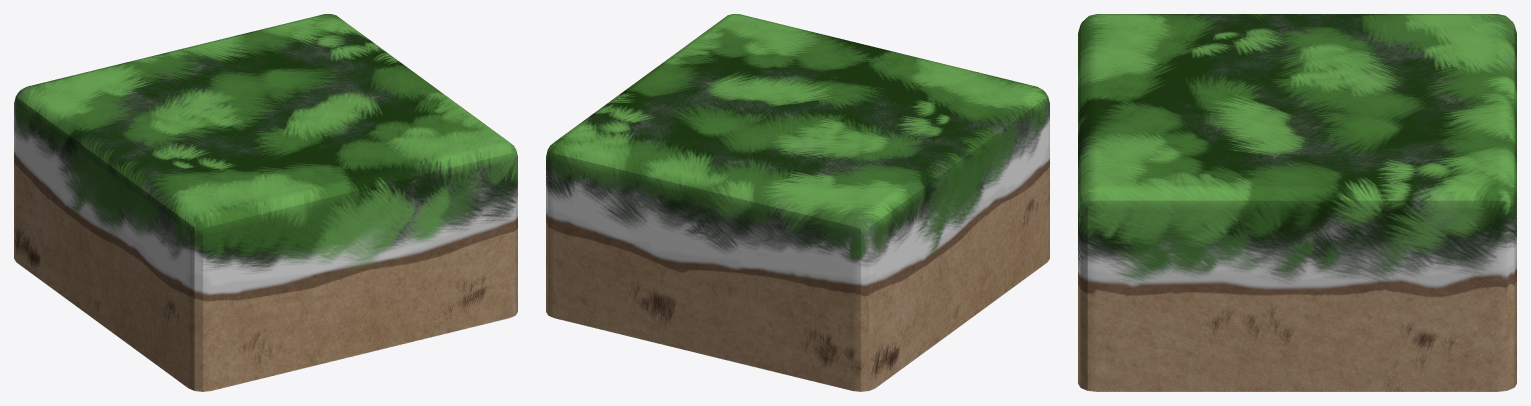
The model's file is plainShortPlatform.fbx.
The picture shows the model from 3 angles, left to right: view 1: azimuth 30°, elevation 25°; view 2: azimuth 150°, elevation 25°; view 3: azimuth 270°, elevation 25°; orthographic projection. The views are drawn at different scales.
Visible parts, largest first — view 1: shortPlatform; view 2: shortPlatform; view 3: shortPlatform.
Part boxes in pixels (x1,y1,x2,y2): shortPlatform: (14, 14, 517, 391); shortPlatform: (546, 14, 1049, 391); shortPlatform: (1078, 14, 1516, 391).
Size of the model in its own units: 50 by 25 by 50.
1 material, 1 textured.
